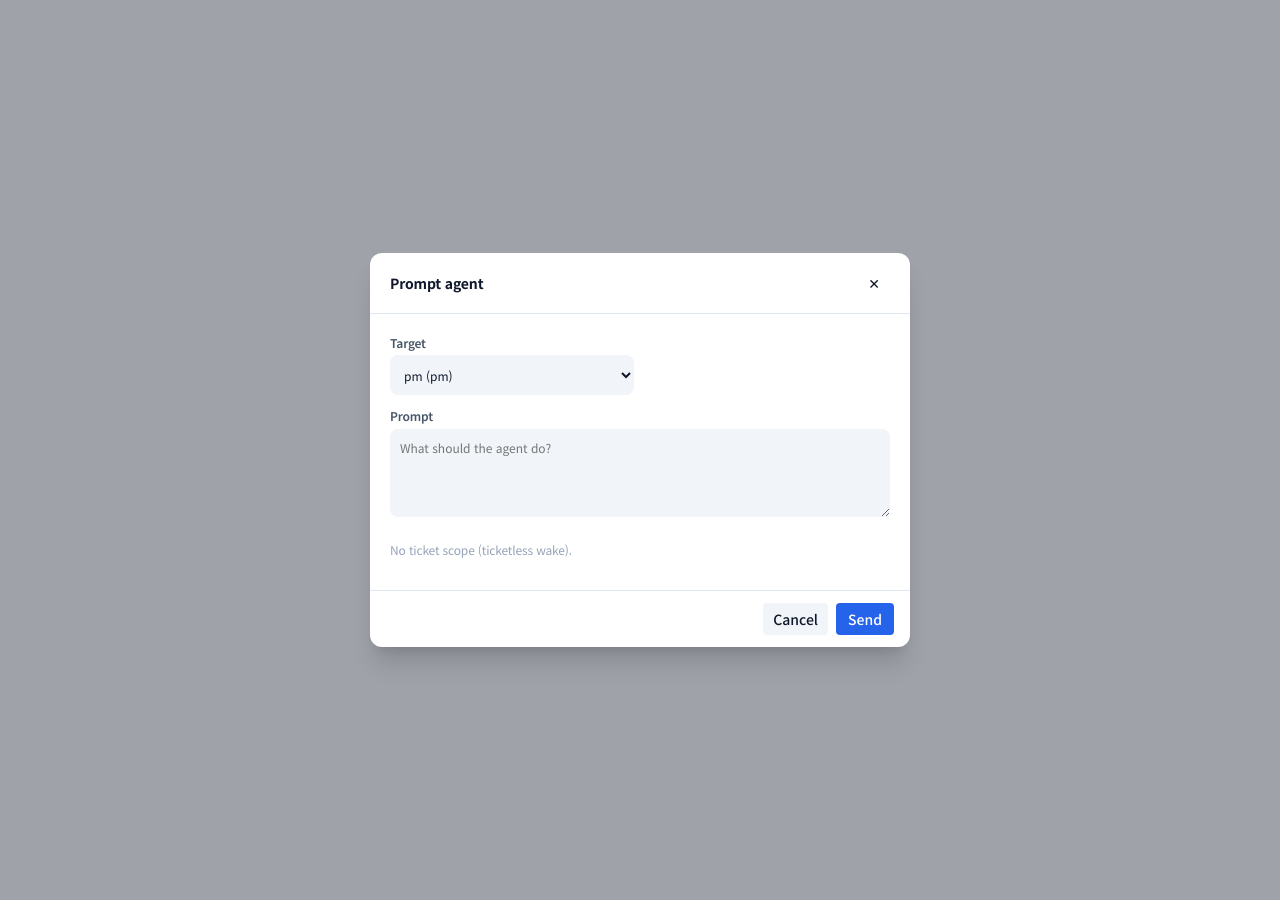
Test case: AgentPromptDialog › sends prompt without ticket_id from toolbar context
The image size is (1280, 900).
Step 1. Select "sw-factory (developer)" in the dropdown labelled "Target" → (512, 375), box x1=390 y1=355 x2=634 y2=395
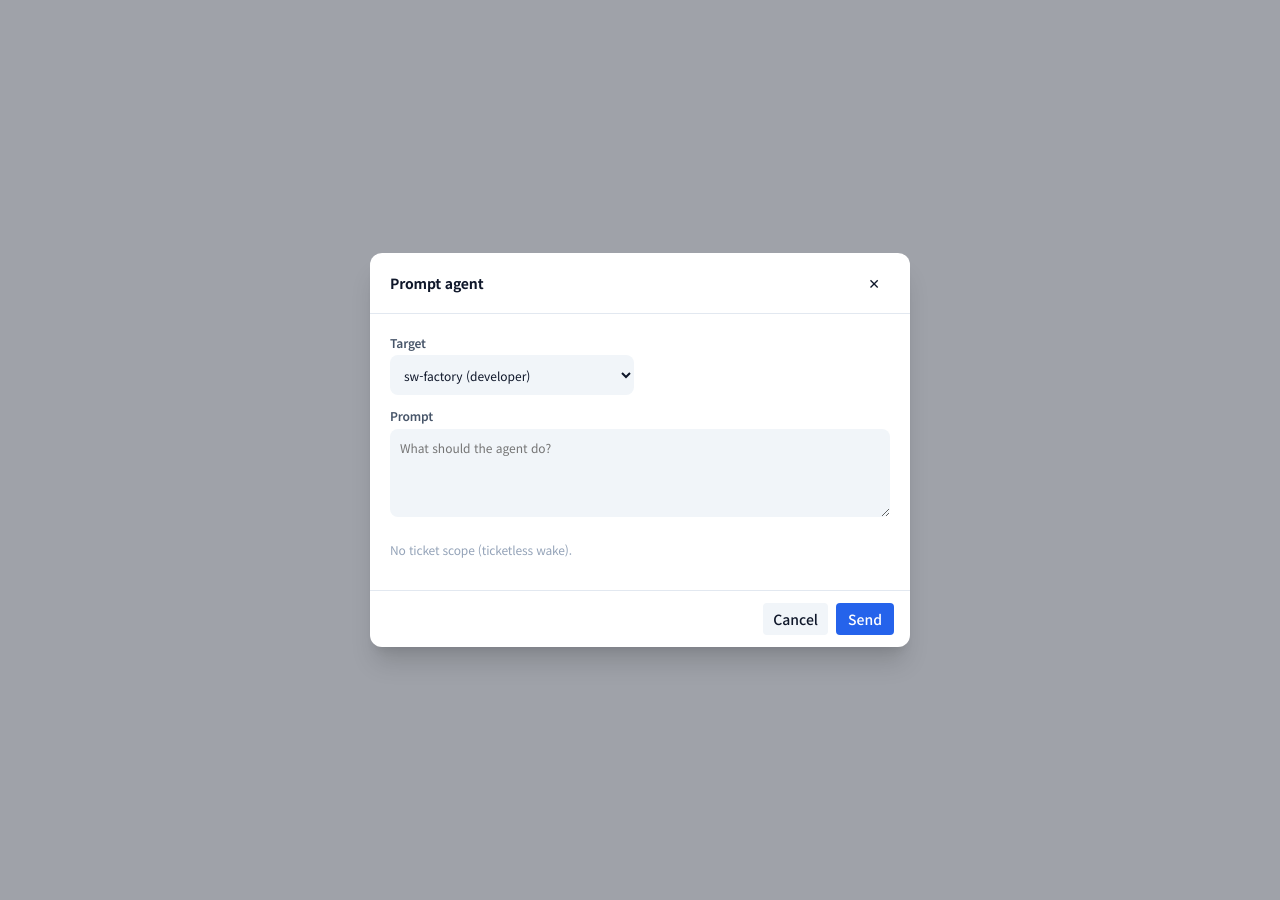
Step 2. Type "Catch up on backlog" into the text box labelled "Prompt" → (640, 473), box x1=390 y1=429 x2=890 y2=517
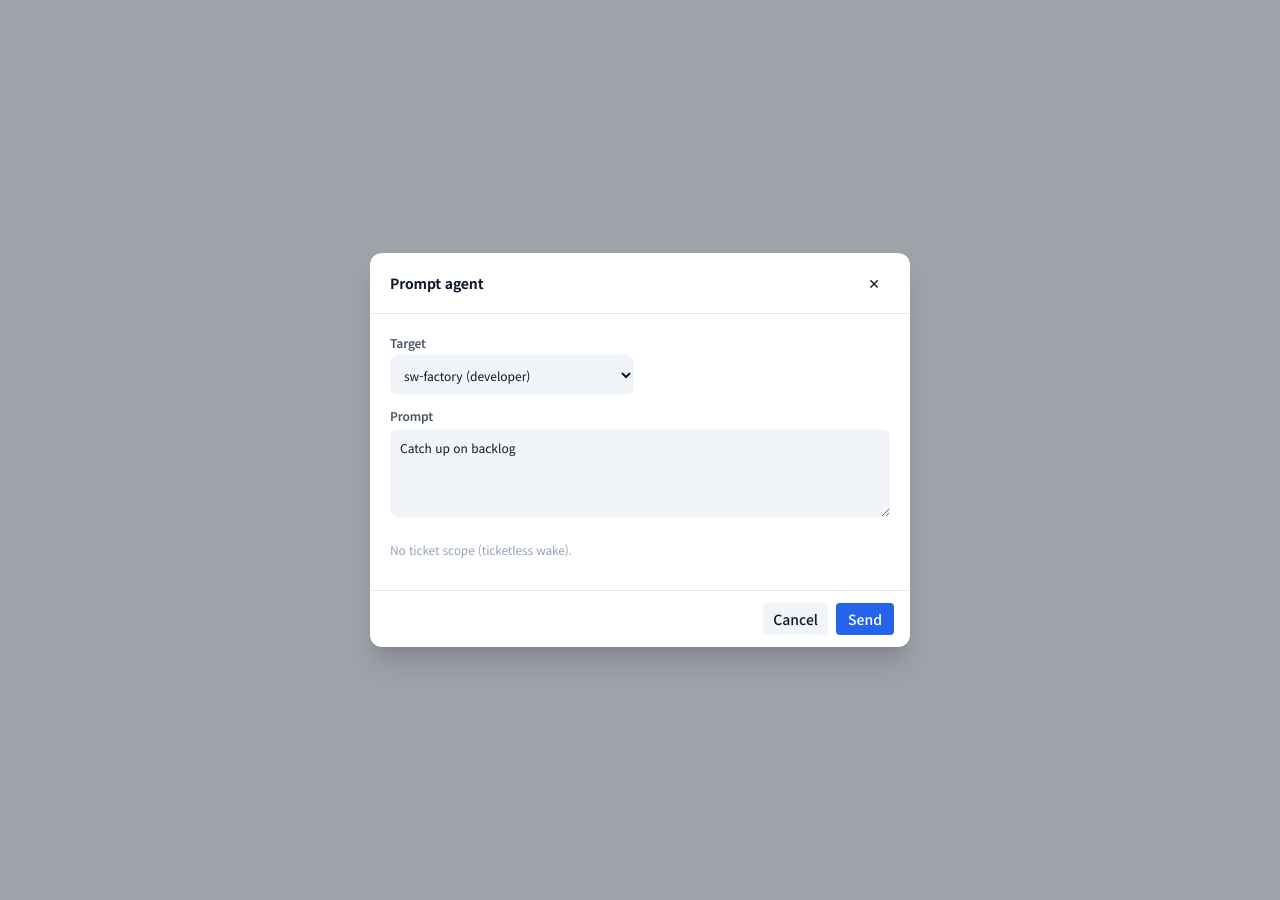
Step 3. Submit the form named "agent prompt", box x1=370 y1=253 x2=910 y2=647
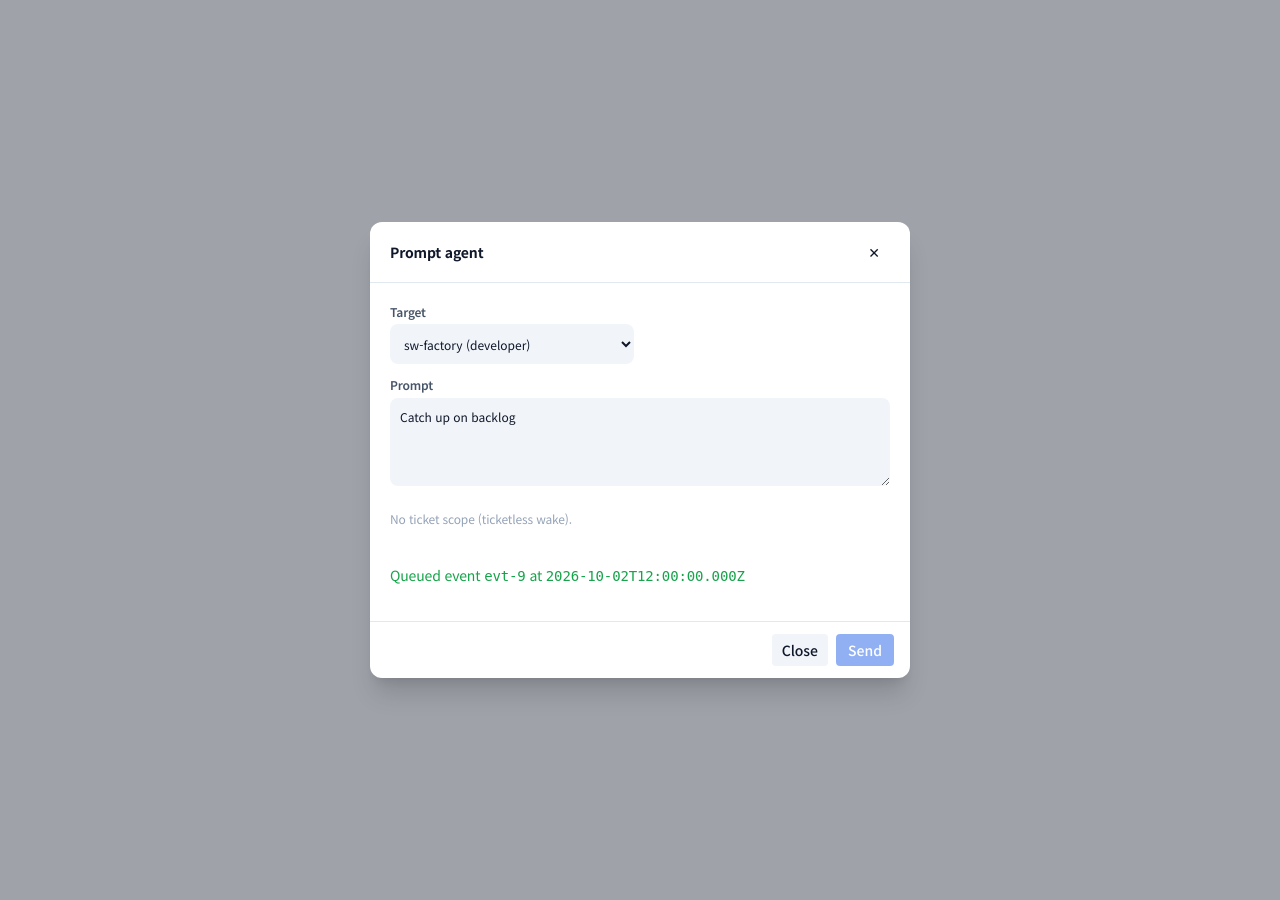
Expected: the text "evt-9" is shown, x1=484 y1=568 x2=526 y2=584
Expected: the text "2026-10-02T12:00:00.000Z" is shown, x1=546 y1=568 x2=745 y2=584
